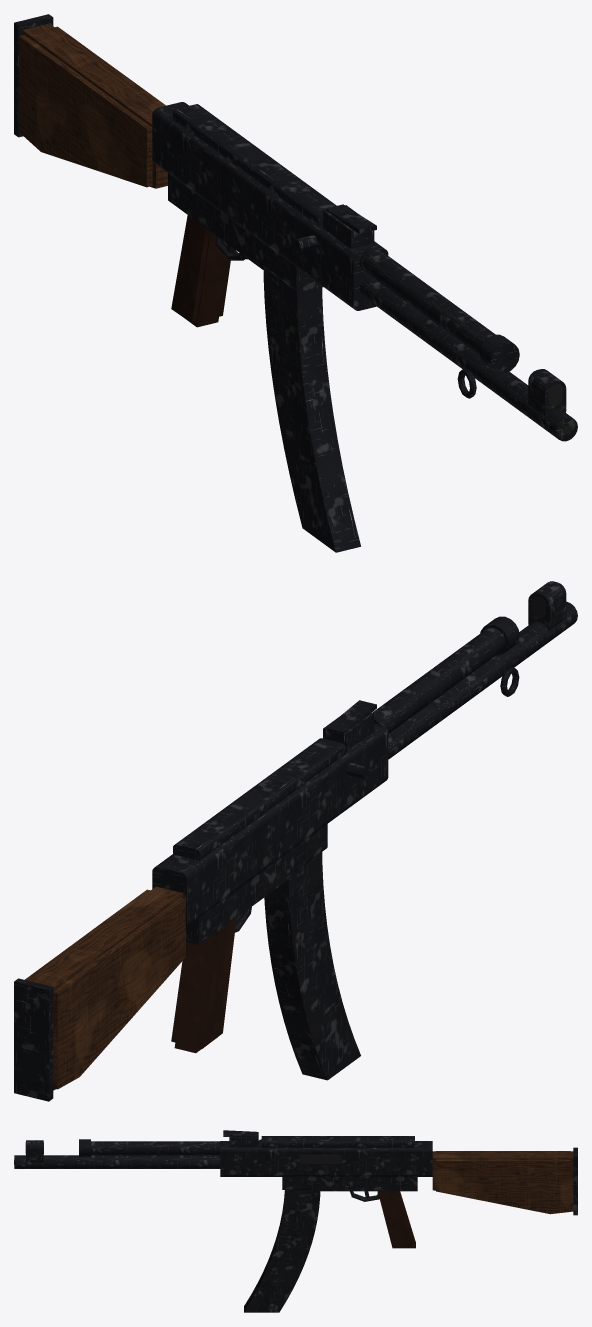
Rendered from stg44.glb.
3 views of the same model, one above another, from view 1: azimuth 30°, elevation 25°; view 2: azimuth 150°, elevation 25°; view 3: azimuth 270°, elevation 25° (orthographic). The views are drawn at different scales.
Visible parts, largest first — view 1: StG44; view 2: StG44; view 3: StG44.
Part boxes in pixels (box(x1,y1,x2,y2)): StG44: box(14, 14, 577, 552); StG44: box(14, 581, 577, 1101); StG44: box(14, 1130, 577, 1312).
Bounding box in the file's own units: 0.056 × 0.3316 × 0.9575.
4 materials, 3 textured.
